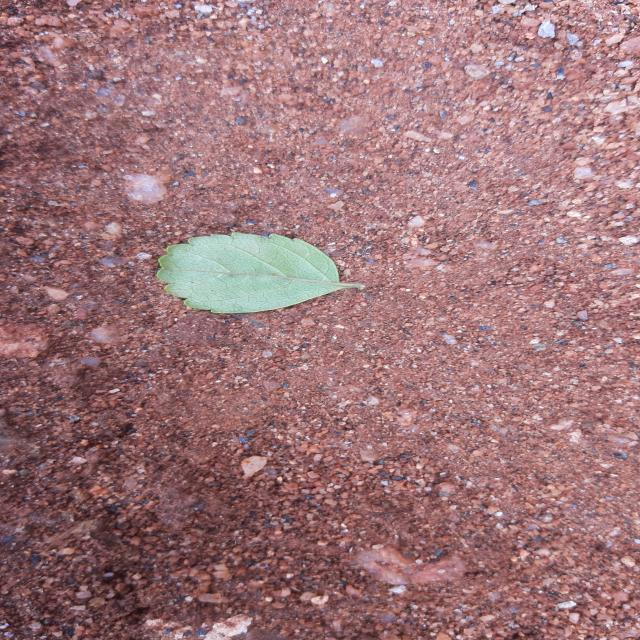tecoma: (156, 232, 364, 314)
